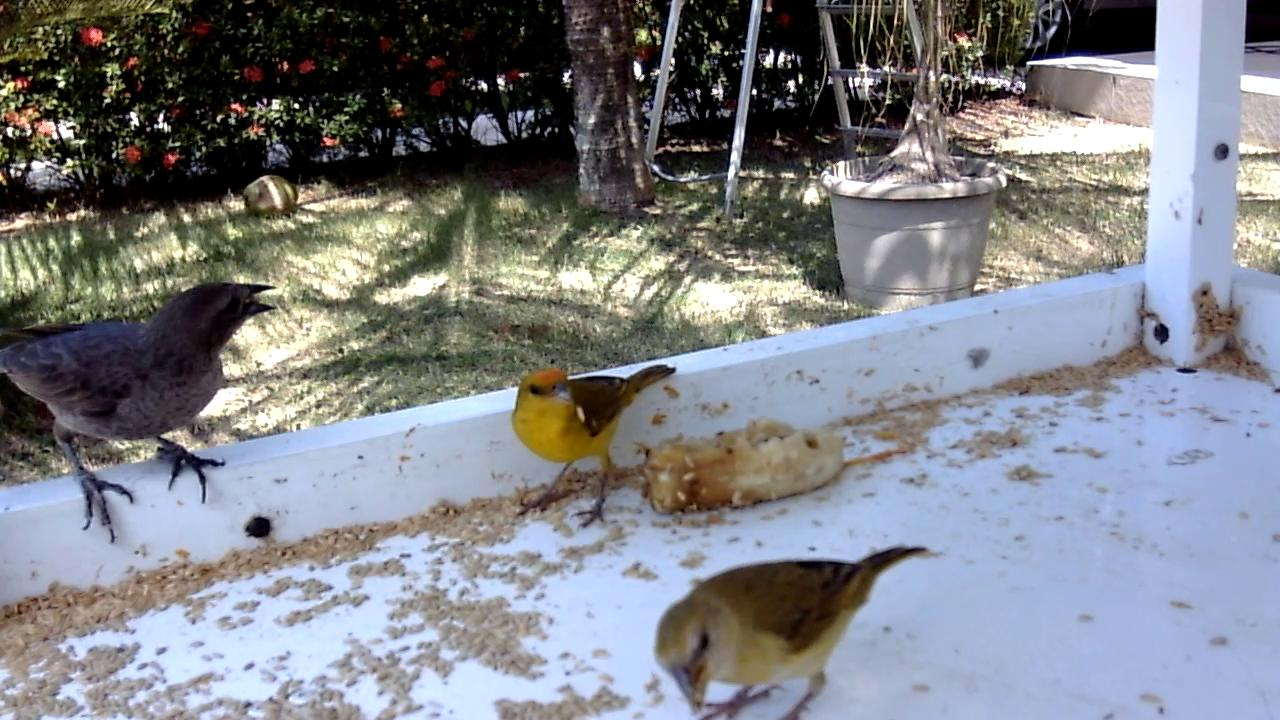canario_do_amazonas: (651, 544, 932, 720), (510, 361, 681, 535)
chupim: (1, 277, 284, 548)
